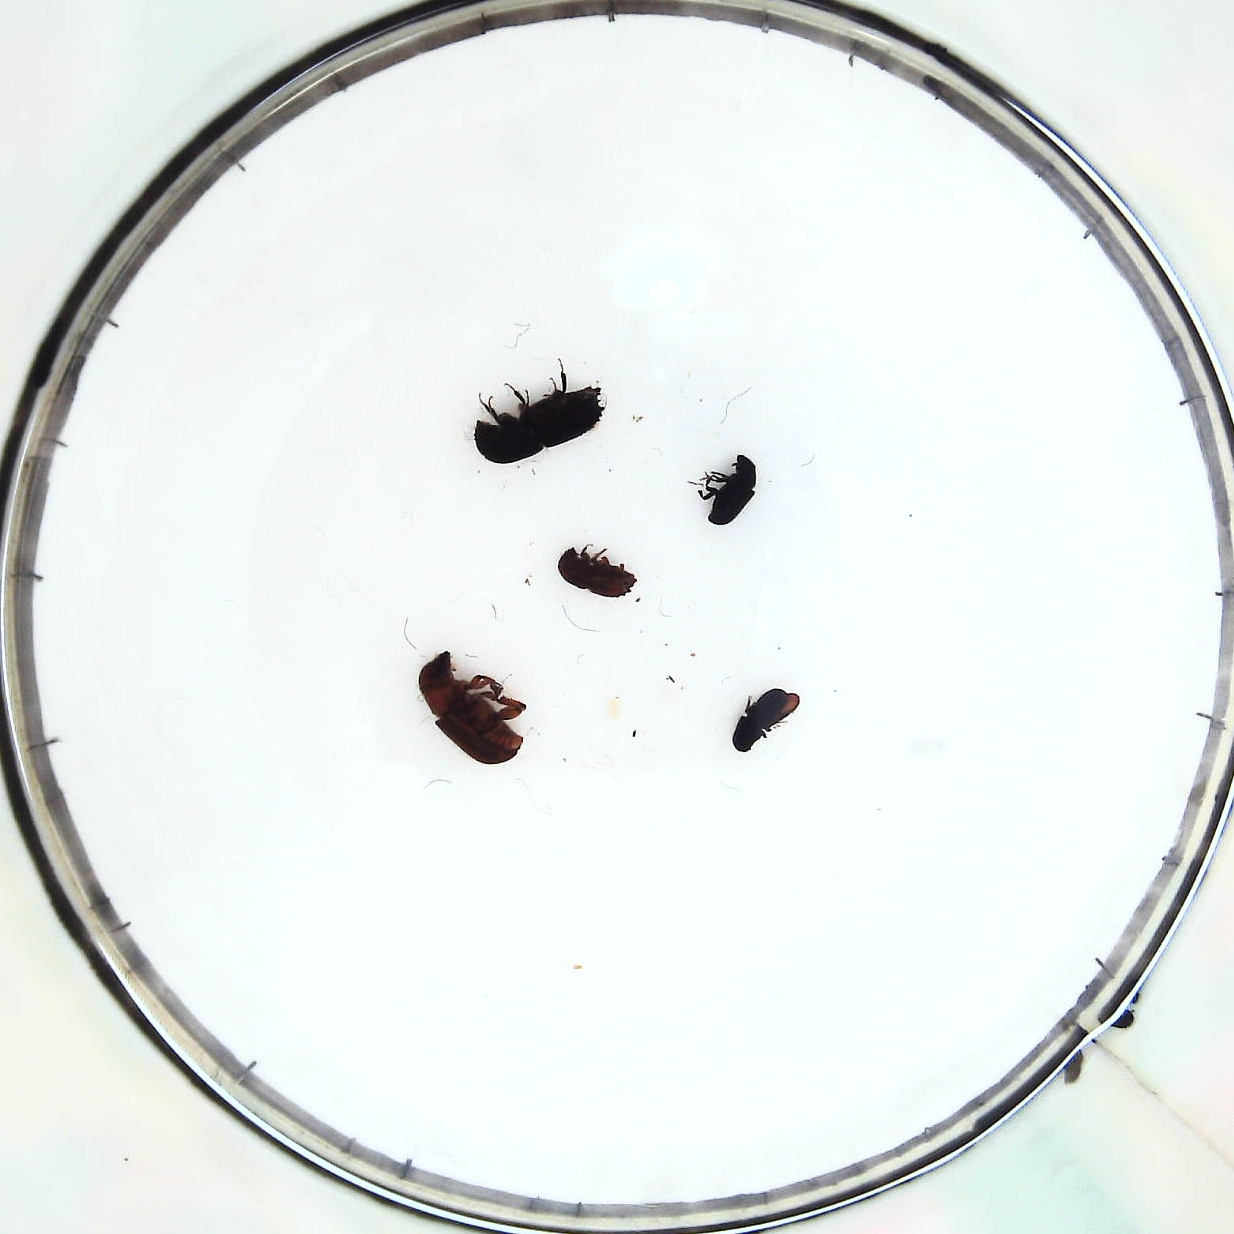Boerner: (473, 386, 610, 462)
Leconte: (420, 653, 528, 773)
Linnaeus: (560, 545, 638, 603)
armandi: (729, 680, 798, 756)
coleoptera: (698, 453, 761, 527)
